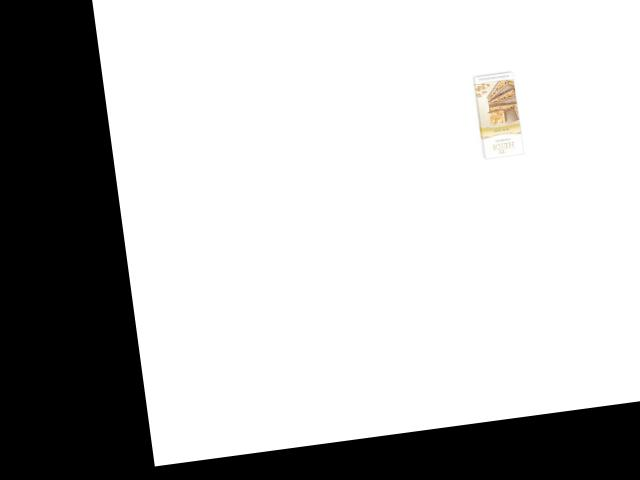chocolate: (456, 66, 532, 166)
